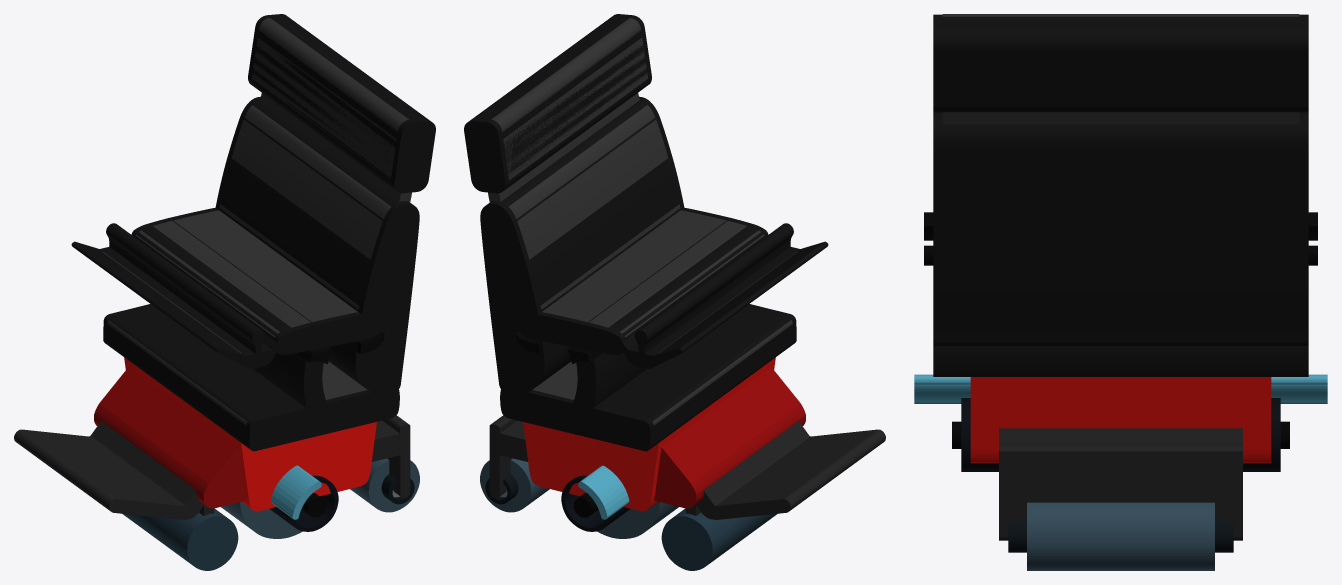
3 renders of one model, left to right at view 1: azimuth 30°, elevation 25°; view 2: azimuth 150°, elevation 25°; view 3: azimuth 270°, elevation 25°, orthographic. The views are drawn at different scales.
Parts seen in each view (by area): view 1: U+1F9BC_layer10_obj03, U+1F9BC_layer10_obj01, U+1F9BC_layer09_obj01, U+1F9BC_layer09_obj04, U+1F9BC_layer05_obj00, U+1F9BC_layer03_obj01, U+1F9BC_layer09_obj02, U+1F9BC_layer06_obj00, U+1F9BC_layer10_obj04, U+1F9BC_layer10_obj00, U+1F9BC_layer04_obj00, U+1F9BC_layer10_obj02 (+7 smaller); view 2: U+1F9BC_layer10_obj03, U+1F9BC_layer10_obj01, U+1F9BC_layer09_obj01, U+1F9BC_layer09_obj04, U+1F9BC_layer05_obj00, U+1F9BC_layer03_obj01, U+1F9BC_layer09_obj02, U+1F9BC_layer06_obj00, U+1F9BC_layer10_obj04, U+1F9BC_layer10_obj00, U+1F9BC_layer04_obj00, U+1F9BC_layer10_obj02 (+7 smaller); view 3: U+1F9BC_layer10_obj03, U+1F9BC_layer10_obj01, U+1F9BC_layer03_obj00, U+1F9BC_layer06_obj00, U+1F9BC_layer00_obj00, U+1F9BC_layer09_obj03, U+1F9BC_layer12_obj00, U+1F9BC_layer07_obj00, U+1F9BC_layer02_obj00, U+1F9BC_layer09_obj02, U+1F9BC_layer11_obj01, U+1F9BC_layer08_obj00.
Part boxes in pixels (x1,y1,x2,y2): U+1F9BC_layer10_obj03: (103, 96, 419, 451); U+1F9BC_layer10_obj01: (248, 14, 435, 193); U+1F9BC_layer09_obj01: (219, 105, 391, 309); U+1F9BC_layer09_obj04: (135, 210, 357, 337); U+1F9BC_layer05_obj00: (94, 367, 245, 508); U+1F9BC_layer03_obj01: (14, 421, 214, 519); U+1F9BC_layer09_obj02: (251, 18, 408, 179); U+1F9BC_layer06_obj00: (124, 357, 376, 511); U+1F9BC_layer10_obj04: (71, 241, 278, 368); U+1F9BC_layer10_obj00: (106, 223, 265, 355); U+1F9BC_layer04_obj00: (122, 508, 238, 570); U+1F9BC_layer10_obj02: (253, 341, 335, 421); U+1F9BC_layer10_obj03: (480, 96, 796, 451); U+1F9BC_layer10_obj01: (464, 14, 651, 193); U+1F9BC_layer09_obj01: (508, 105, 680, 309); U+1F9BC_layer09_obj04: (542, 210, 764, 337); U+1F9BC_layer05_obj00: (654, 367, 805, 508); U+1F9BC_layer03_obj01: (685, 421, 885, 519); U+1F9BC_layer09_obj02: (491, 18, 648, 179); U+1F9BC_layer06_obj00: (523, 357, 775, 511); U+1F9BC_layer10_obj04: (621, 241, 828, 368); U+1F9BC_layer10_obj00: (634, 223, 793, 355); U+1F9BC_layer04_obj00: (661, 508, 777, 570); U+1F9BC_layer10_obj02: (564, 341, 646, 421); U+1F9BC_layer10_obj03: (933, 112, 1308, 376); U+1F9BC_layer10_obj01: (933, 14, 1308, 112); U+1F9BC_layer03_obj00: (999, 428, 1242, 540); U+1F9BC_layer06_obj00: (970, 377, 1271, 463); U+1F9BC_layer00_obj00: (1027, 502, 1214, 570); U+1F9BC_layer09_obj03: (942, 112, 1299, 123); U+1F9BC_layer12_obj00: (914, 374, 1327, 403); U+1F9BC_layer07_obj00: (961, 398, 1280, 471); U+1F9BC_layer02_obj00: (1008, 520, 1233, 552); U+1F9BC_layer09_obj02: (942, 14, 1299, 16); U+1F9BC_layer11_obj01: (924, 212, 1317, 240); U+1F9BC_layer08_obj00: (952, 421, 1289, 448).
Size of the model in its own units: 0.254 by 0.3175 by 0.22.
